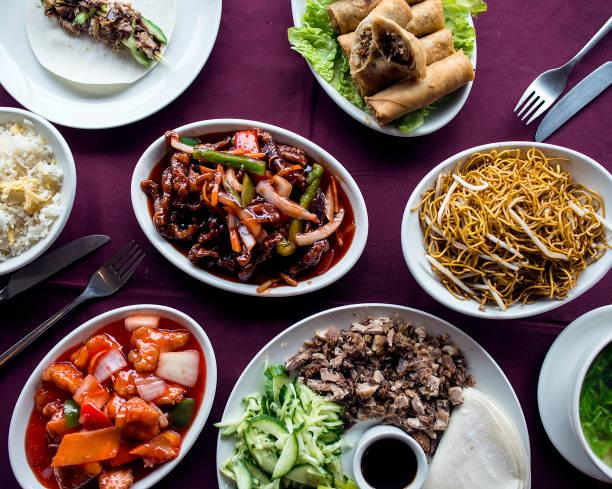Braised Crucian Carp: (216, 305, 525, 487), (134, 118, 360, 293), (6, 307, 213, 486), (400, 141, 609, 317), (351, 423, 430, 487)
